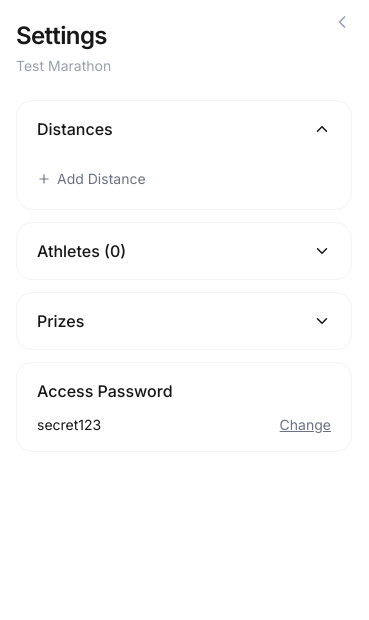
Test: Settings Page — Access Password › empty distance name shows "Enter a valid distance" error
Click the button "Add Distance" at point(91, 179), box [37,169,146,189]
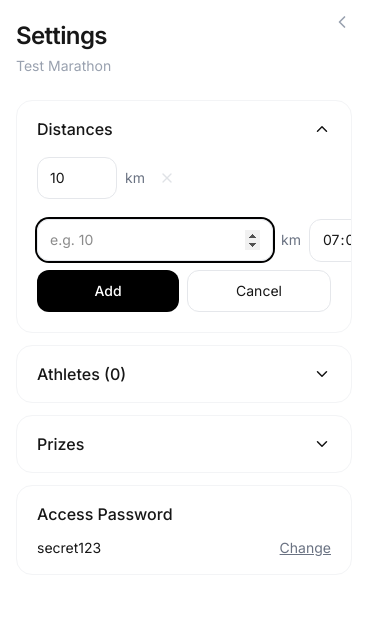
Click the button "Add" at point(108, 291), box [37,270,179,312]
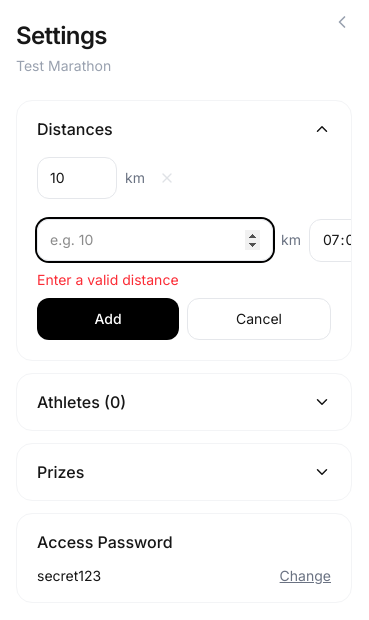
Expected: the text "Enter a valid distance" is shown, [37,271,178,288]
